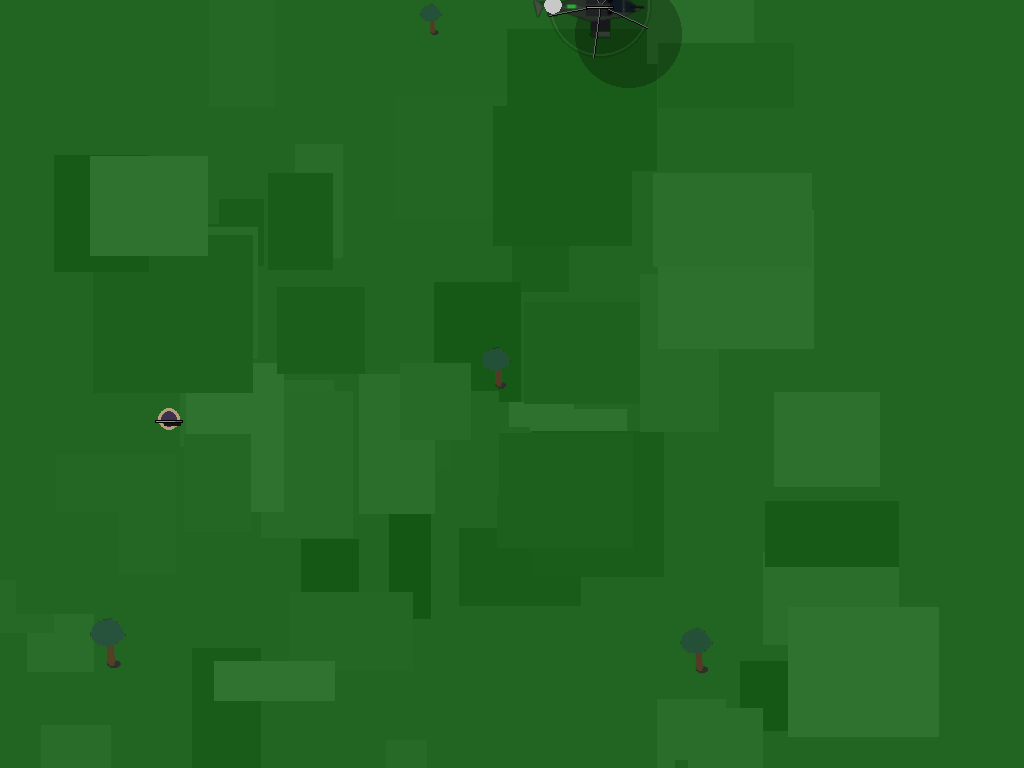CombatEngineer: (560, 0, 639, 79)
M1A2_chn: (150, 400, 186, 436)
